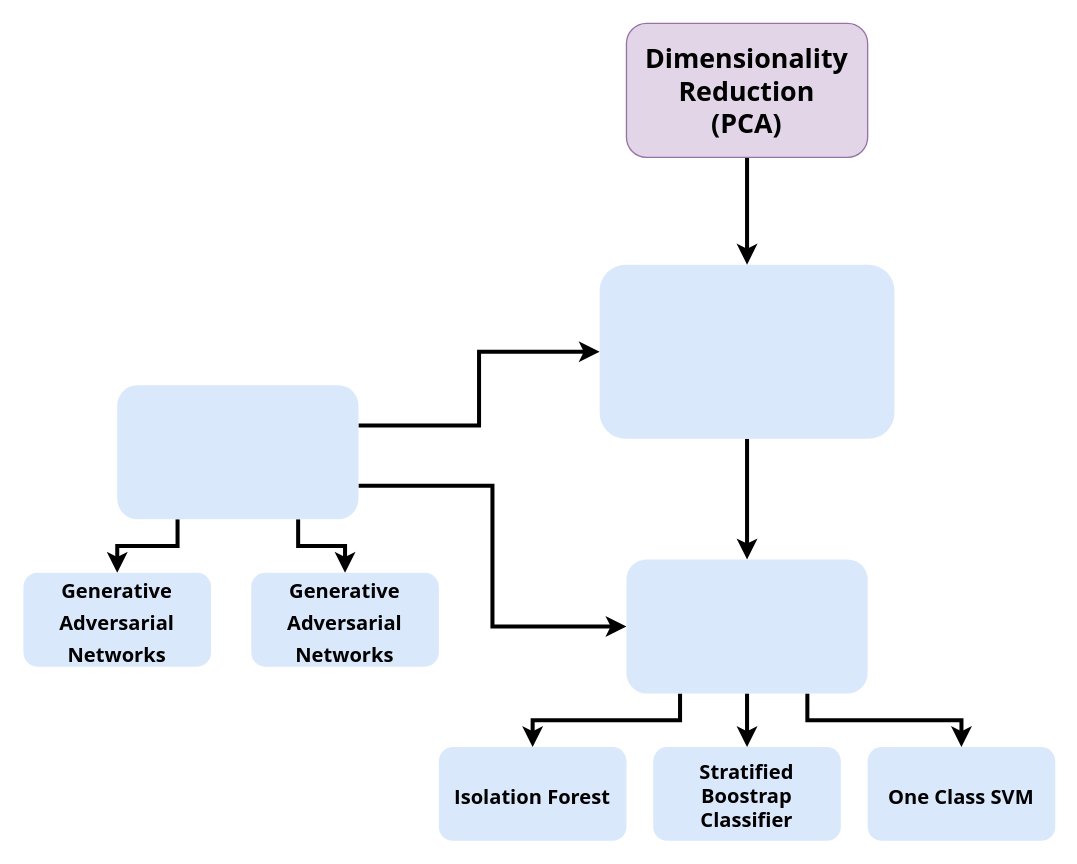
This 1077x864 diagram has some shape labels left out. Here are the shapes that lost their labels. From the top down, the centre of each, then its label:
the point at 746,351: Time Series Forecasting Model (Seq2Seq LSTM w Dropout)
the point at 237,452: Generative Model
the point at 746,626: Anomaly Detection Model
